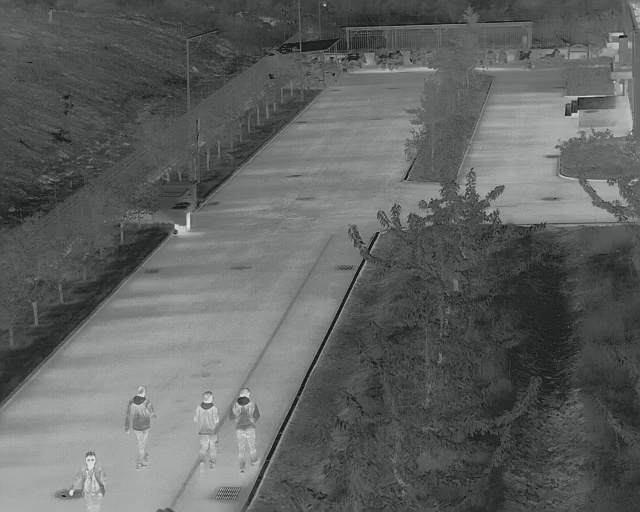person: (229, 387, 263, 474), (125, 382, 157, 471), (69, 449, 111, 510), (191, 389, 221, 474)
